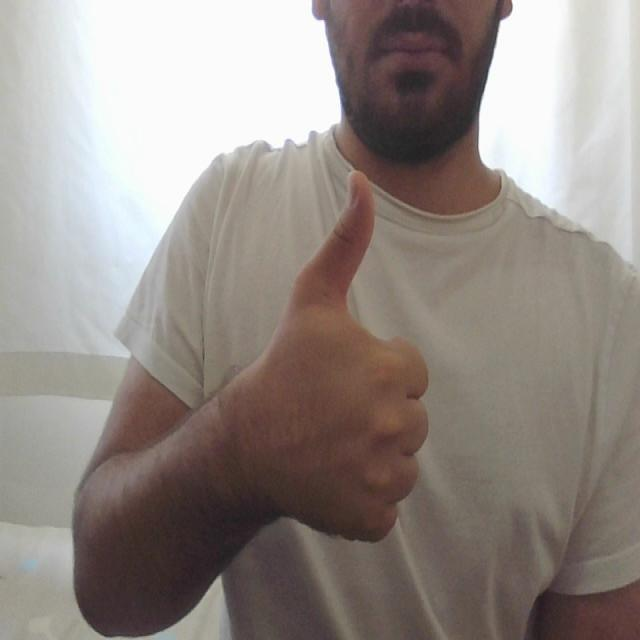Tamam: (250, 150, 428, 548)
